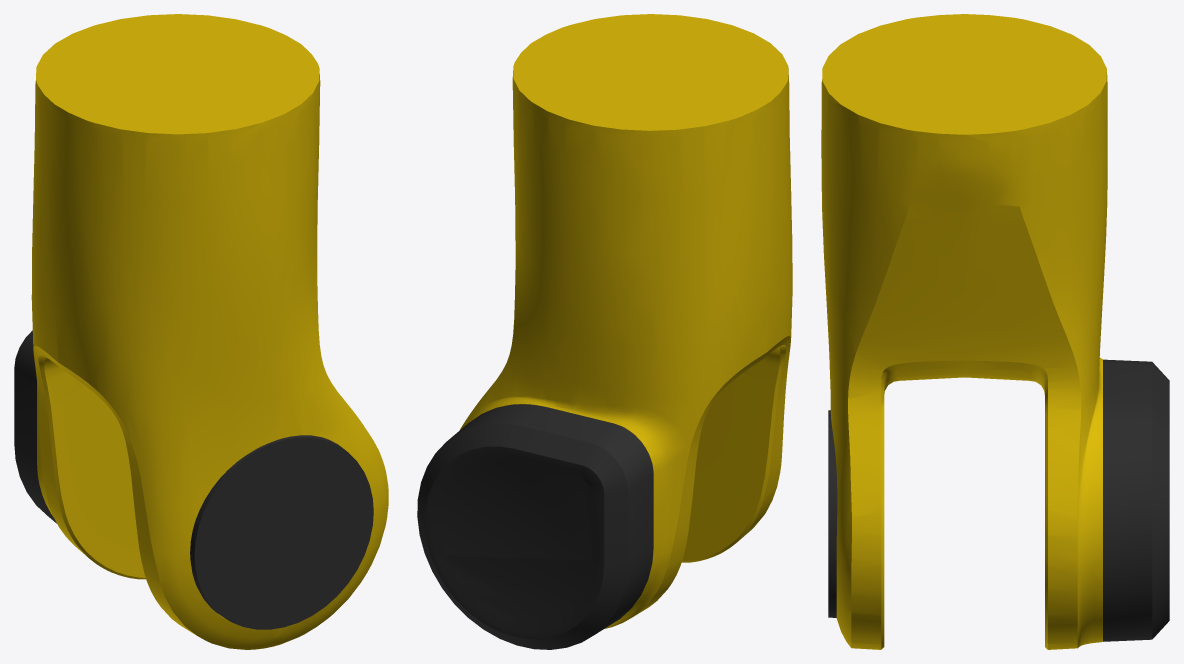
The model's file is elbow_pitch_r_j3_link.glb.
The picture shows the model from 3 angles, left to right: view 1: azimuth 30°, elevation 25°; view 2: azimuth 150°, elevation 25°; view 3: azimuth 270°, elevation 25°; orthographic projection. The views are drawn at different scales.
Bounding box in the file's own units: 0.1089 × 0.2015 × 0.1169.
